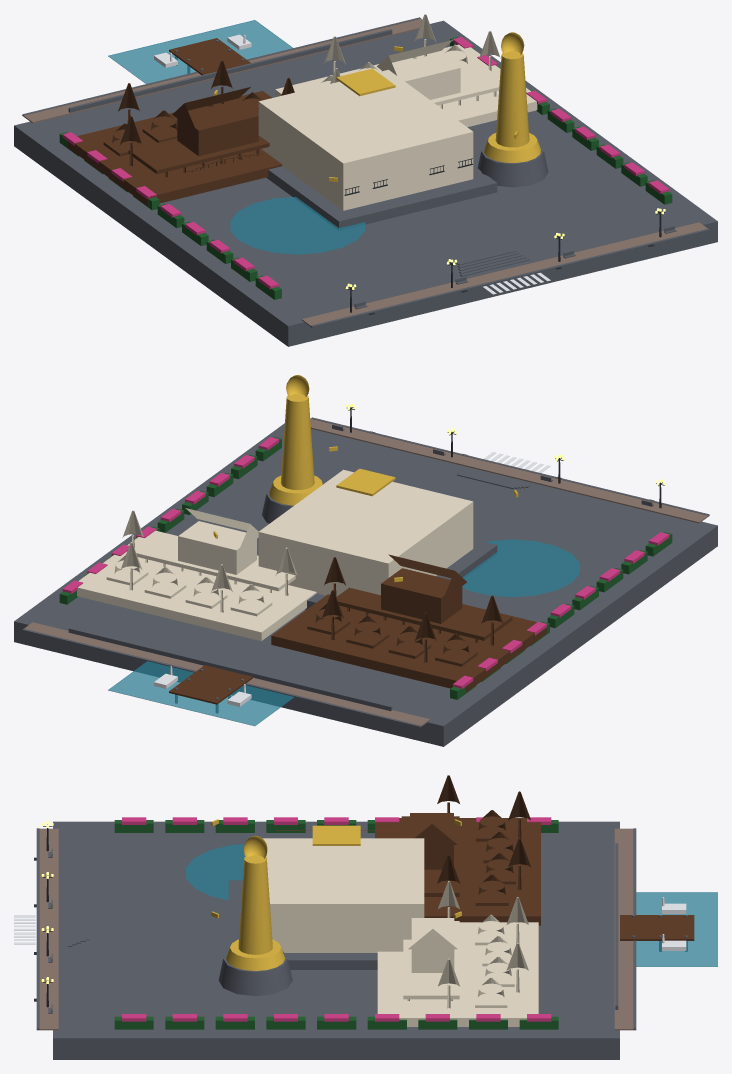
The model's file is tc_08_thien_vien_van_hanh_linh_quang_and_clay_tunnel.glb.
3 views of the same model, one above another, from view 1: azimuth 30°, elevation 25°; view 2: azimuth 150°, elevation 25°; view 3: azimuth 270°, elevation 25° (orthographic). The views are drawn at different scales.
Visible parts, largest first — view 1: Split_Granite_Skirt_Curbs_And_140Steps, Sanctuary_And_Station_Heritage_Wall, Wooden_Louver_Shutters_And_Footbridge, TuyenLam_Water_Apron_And_Cable_Cabin_Glass_Blend, ConSau_Interlocking_Sidewalk_Paver, Gilded_Ridge_Moulding_Buddha_And_Mosaic, Trimmed_Pine_Hedge_And_Bonsai_Canopy, Bougainvillea_And_Immortal_Flower_Mosaic, Zebra_Crosswalk_And_Swan_Boat_White, Wrought_Iron_Balcony_Lattice_Pylon_And_5Globe_Post; view 2: Split_Granite_Skirt_Curbs_And_140Steps, Sanctuary_And_Station_Heritage_Wall, Wooden_Louver_Shutters_And_Footbridge, TuyenLam_Water_Apron_And_Cable_Cabin_Glass_Blend, ConSau_Interlocking_Sidewalk_Paver, Gilded_Ridge_Moulding_Buddha_And_Mosaic, Trimmed_Pine_Hedge_And_Bonsai_Canopy, Bougainvillea_And_Immortal_Flower_Mosaic, Zebra_Crosswalk_And_Swan_Boat_White; view 3: Split_Granite_Skirt_Curbs_And_140Steps, Sanctuary_And_Station_Heritage_Wall, Wooden_Louver_Shutters_And_Footbridge, ConSau_Interlocking_Sidewalk_Paver, TuyenLam_Water_Apron_And_Cable_Cabin_Glass_Blend, Trimmed_Pine_Hedge_And_Bonsai_Canopy, Gilded_Ridge_Moulding_Buddha_And_Mosaic, Bougainvillea_And_Immortal_Flower_Mosaic, Zebra_Crosswalk_And_Swan_Boat_White.
Part boxes in pixels (x1,y1,x2,y2): Split_Granite_Skirt_Curbs_And_140Steps: (14, 17, 717, 346); Sanctuary_And_Station_Heritage_Wall: (258, 14, 537, 210); Wooden_Louver_Shutters_And_Footbridge: (67, 38, 294, 205); TuyenLam_Water_Apron_And_Cable_Cabin_Glass_Blend: (108, 20, 365, 254); ConSau_Interlocking_Sidewalk_Paver: (23, 18, 707, 326); Gilded_Ridge_Moulding_Buddha_And_Mosaic: (213, 32, 540, 181); Trimmed_Pine_Hedge_And_Bonsai_Canopy: (59, 37, 672, 299); Bougainvillea_And_Immortal_Flower_Mosaic: (62, 37, 669, 289); Zebra_Crosswalk_And_Swan_Boat_White: (154, 34, 550, 294); Wrought_Iron_Balcony_Lattice_Pylon_And_5Globe_Post: (344, 158, 664, 314); Split_Granite_Skirt_Curbs_And_140Steps: (14, 417, 717, 746); Sanctuary_And_Station_Heritage_Wall: (77, 469, 473, 641); Wooden_Louver_Shutters_And_Footbridge: (169, 554, 546, 704); TuyenLam_Water_Apron_And_Cable_Cabin_Glass_Blend: (108, 539, 579, 726); ConSau_Interlocking_Sidewalk_Paver: (24, 419, 708, 726); Gilded_Ridge_Moulding_Buddha_And_Mosaic: (213, 375, 518, 582); Trimmed_Pine_Hedge_And_Bonsai_Canopy: (59, 437, 672, 699); Bougainvillea_And_Immortal_Flower_Mosaic: (62, 437, 669, 689); Zebra_Crosswalk_And_Swan_Boat_White: (154, 452, 550, 706); Split_Granite_Skirt_Curbs_And_140Steps: (36, 821, 687, 1059); Sanctuary_And_Station_Heritage_Wall: (263, 838, 538, 1026); Wooden_Louver_Shutters_And_Footbridge: (375, 775, 694, 940); ConSau_Interlocking_Sidewalk_Paver: (39, 828, 633, 1030); TuyenLam_Water_Apron_And_Cable_Cabin_Glass_Blend: (186, 844, 717, 966); Trimmed_Pine_Hedge_And_Bonsai_Canopy: (114, 820, 558, 1029); Gilded_Ridge_Moulding_Buddha_And_Mosaic: (211, 819, 461, 970); Bougainvillea_And_Immortal_Flower_Mosaic: (122, 817, 551, 1021); Zebra_Crosswalk_And_Swan_Boat_White: (14, 897, 686, 950).
Bounding box in the file's own units: 76 × 27.6 × 104.
